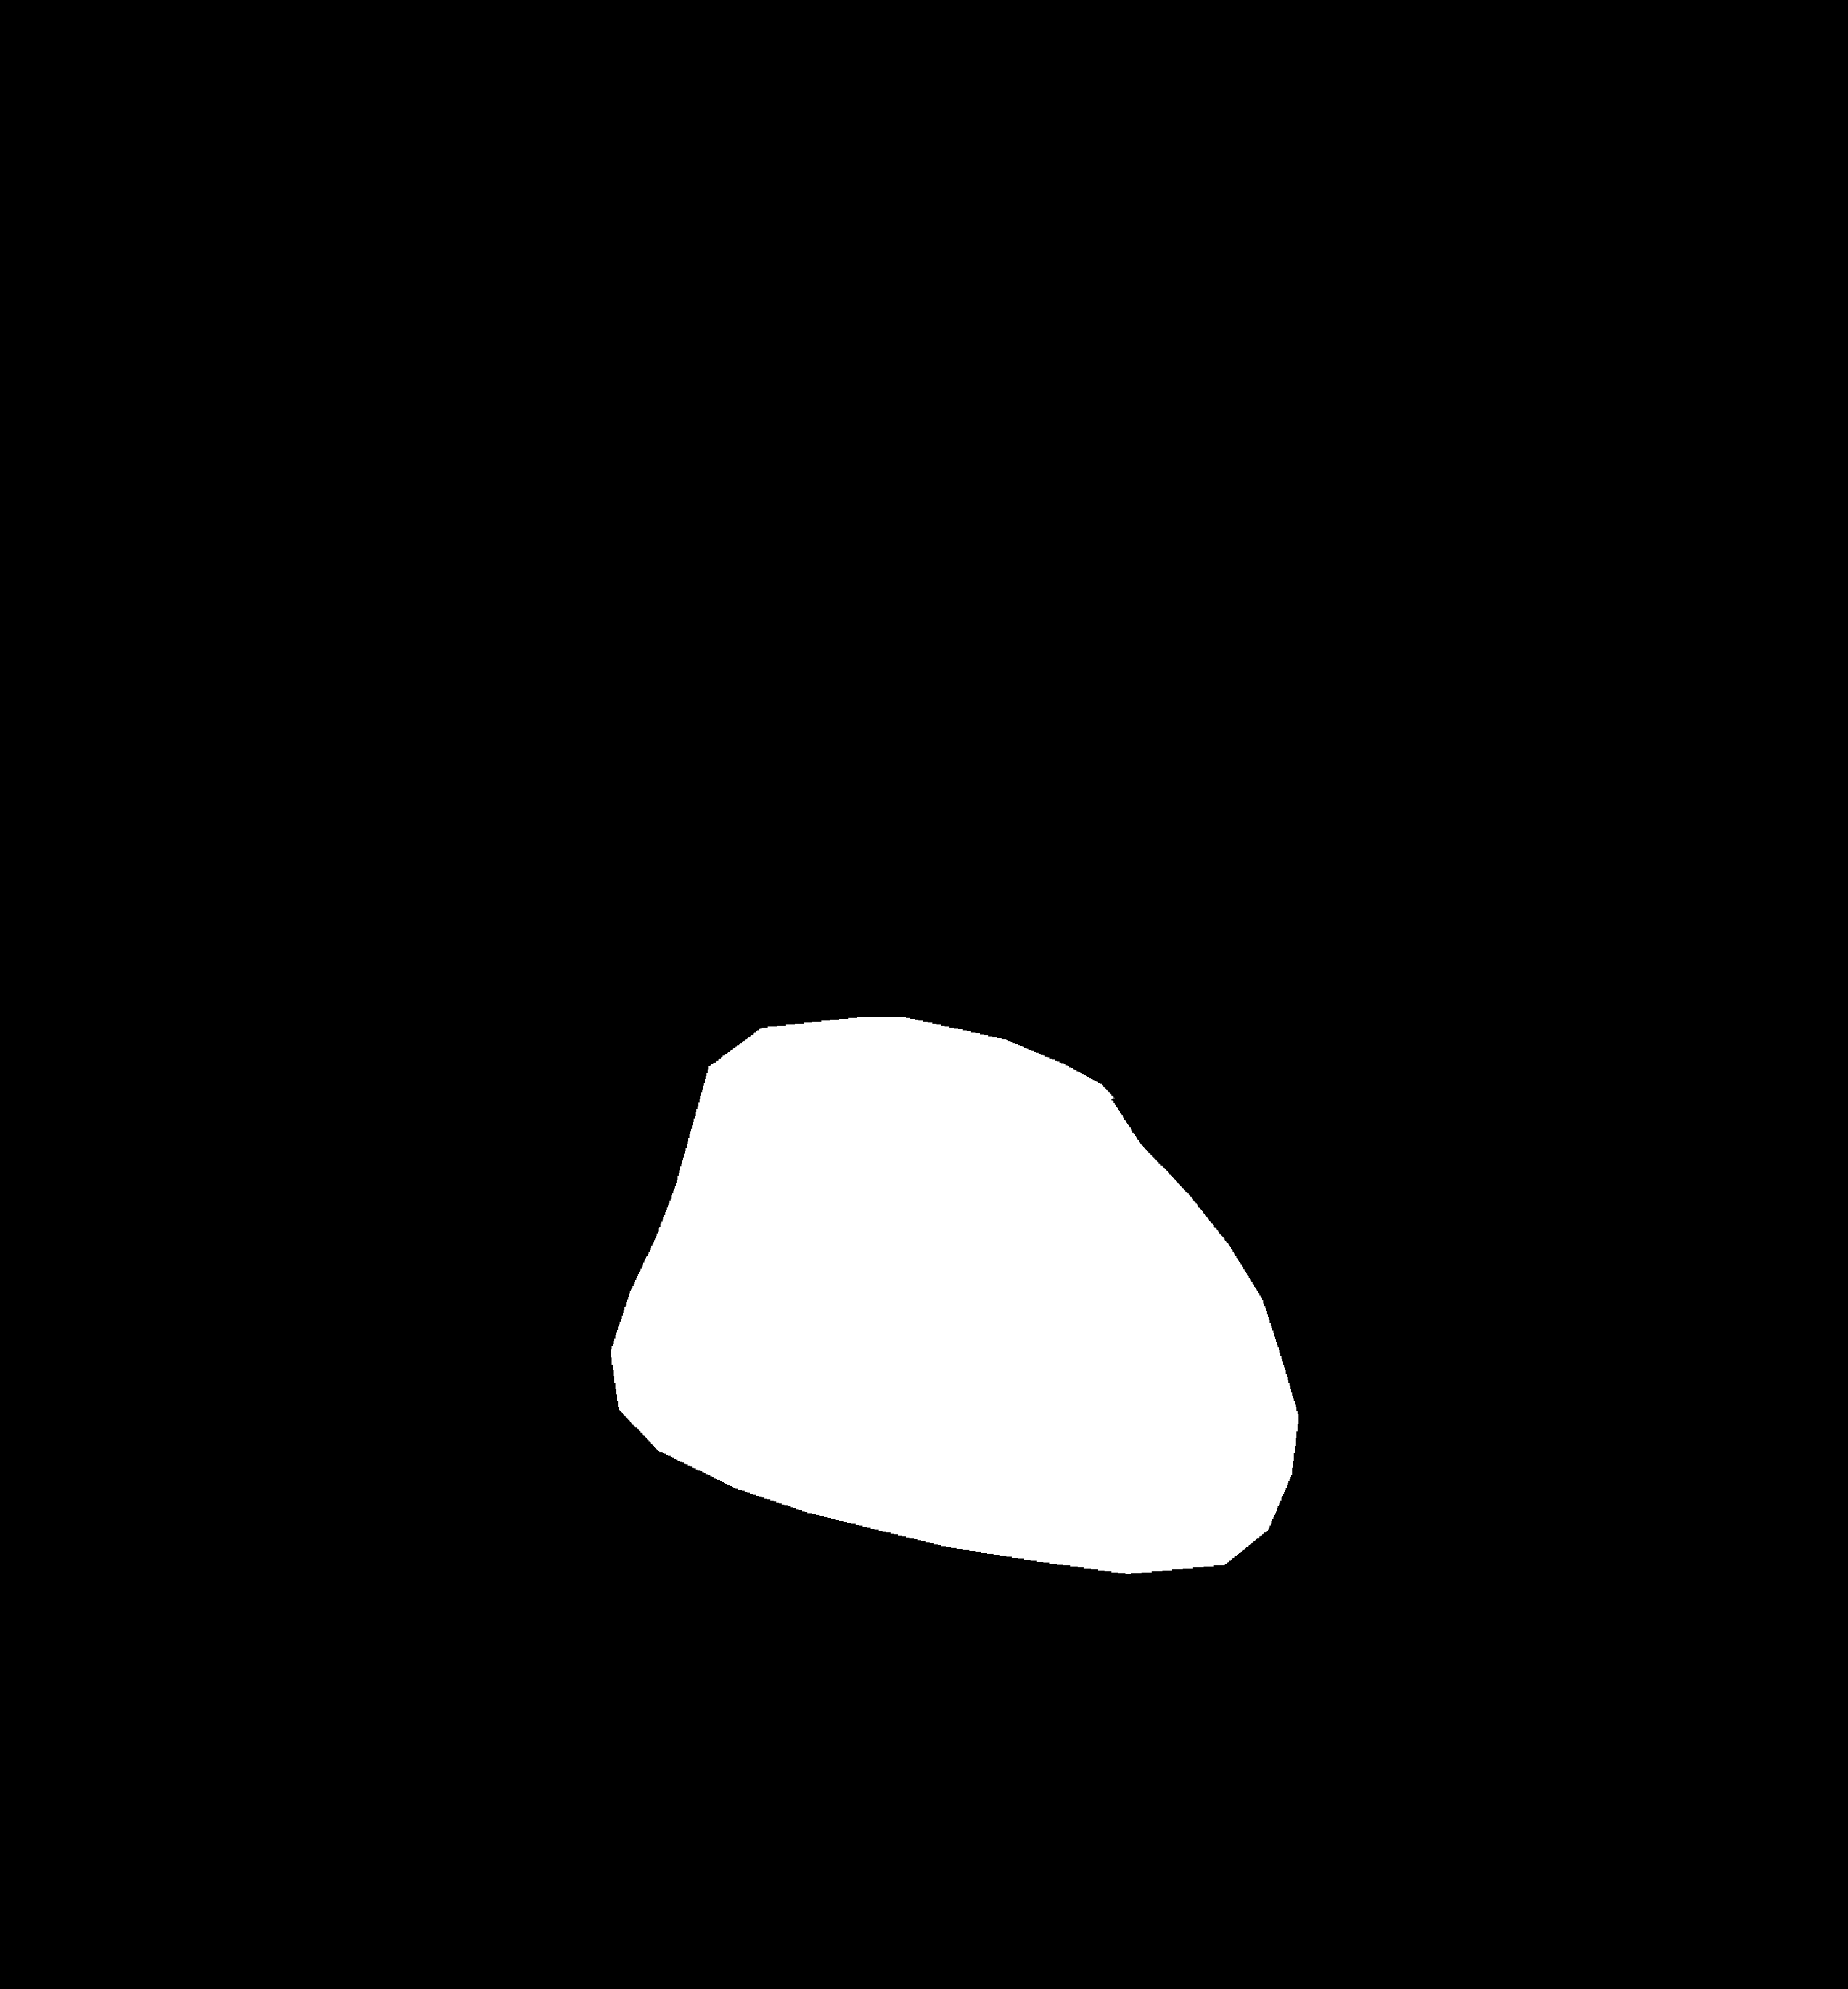heart: (747, 1110, 1296, 1553)
left_lung: (205, 313, 822, 1754)
right_lung: (938, 274, 1615, 1801)
